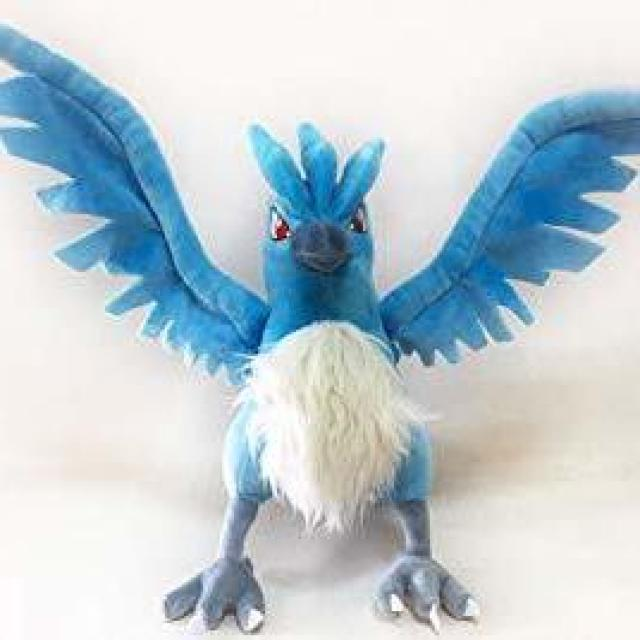Articuno: (143, 119, 499, 618)
